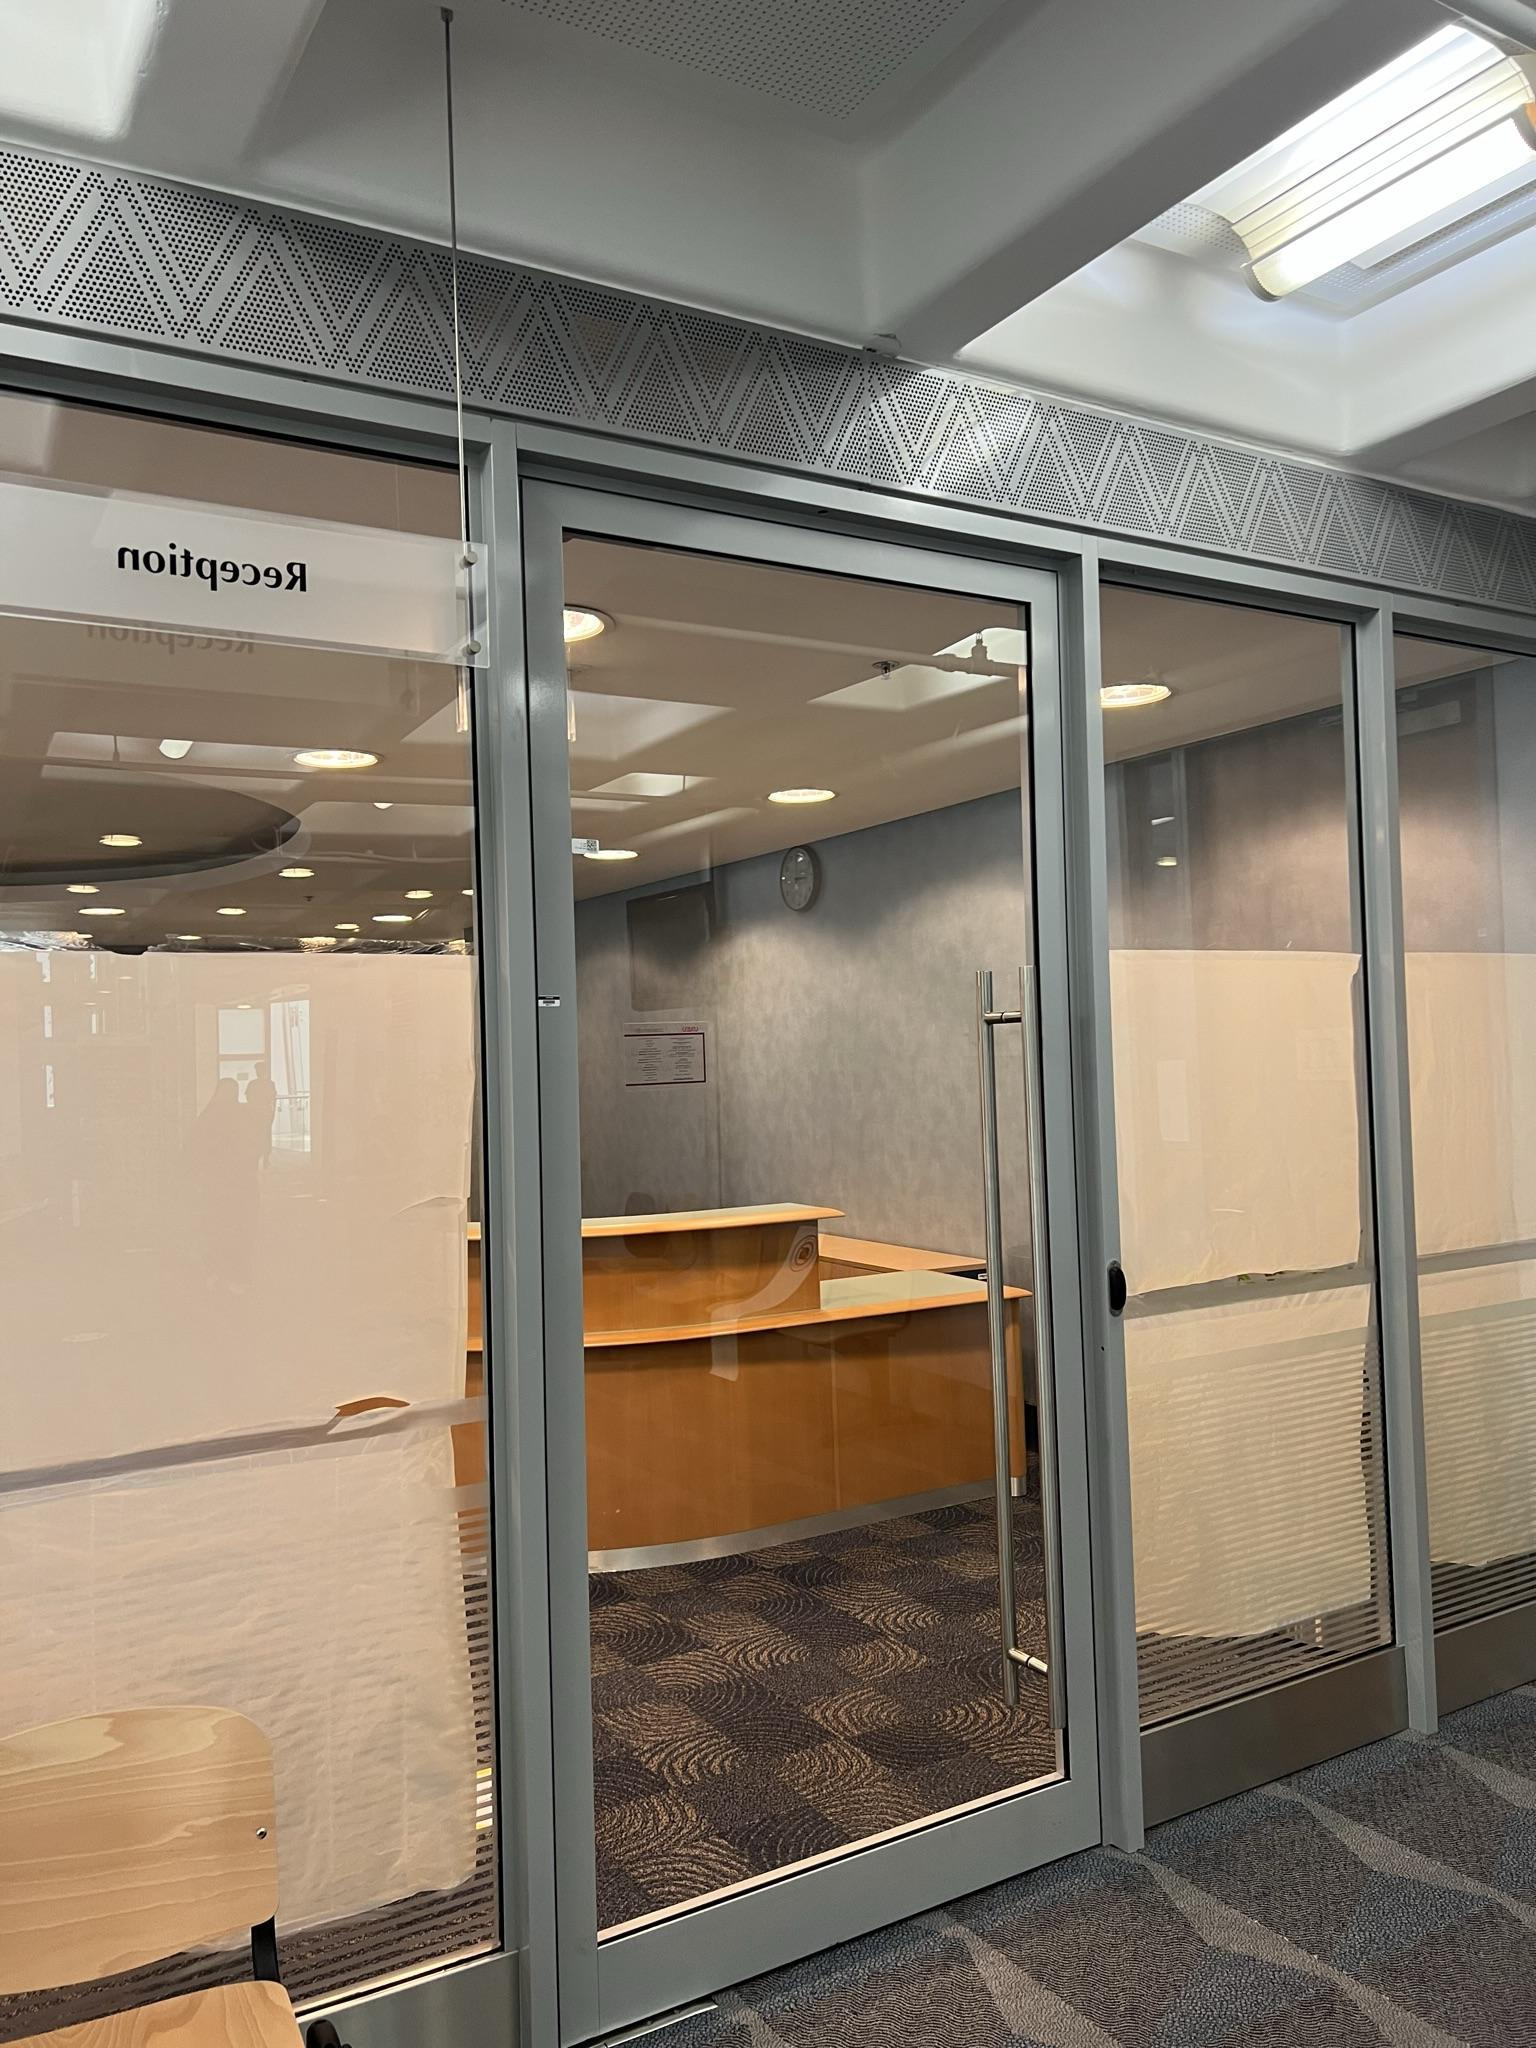door: (503, 526, 1075, 2016)
handle: (1004, 921, 1058, 1746)
